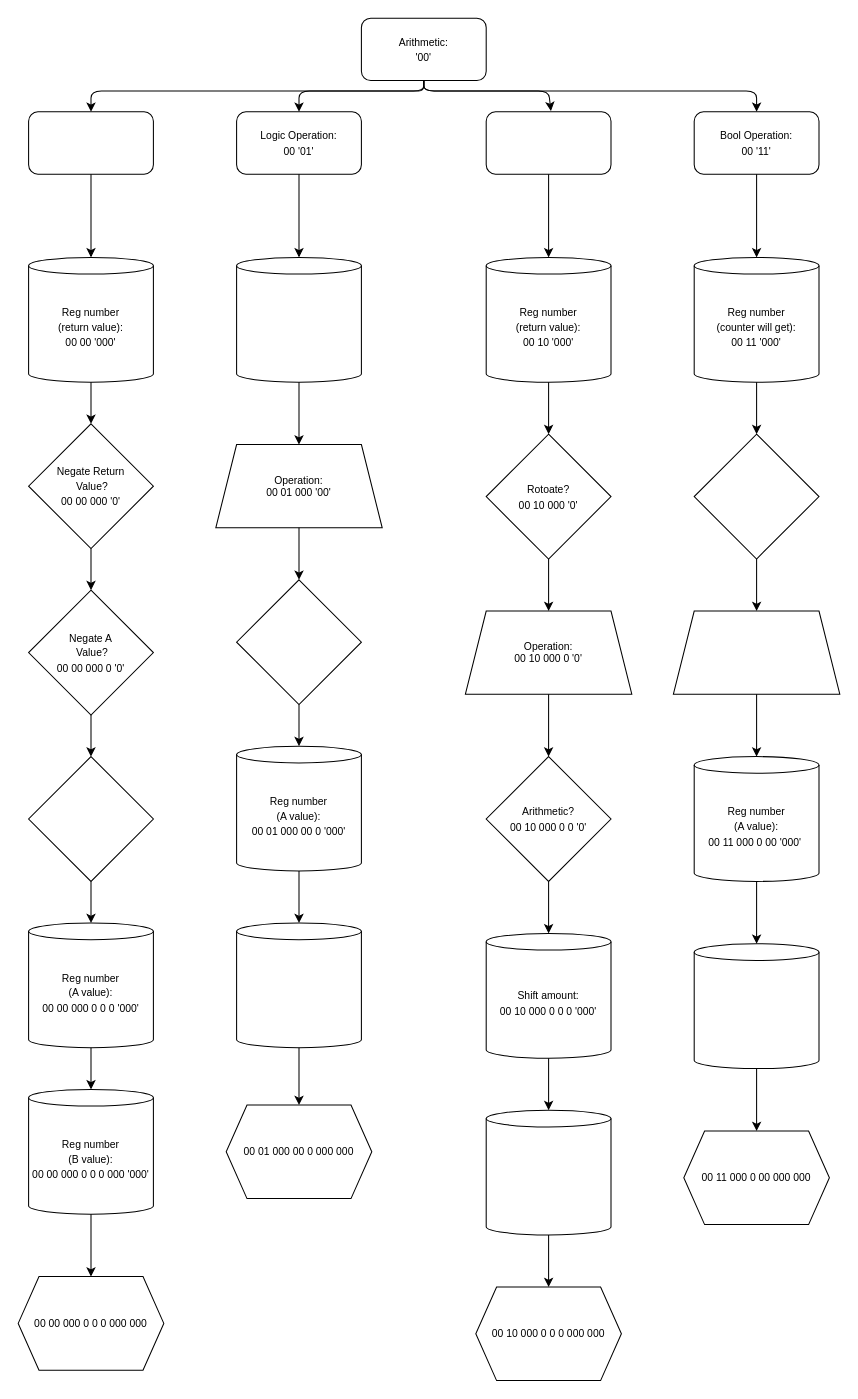
Some shapes in this 858 by 1399 pixel diagram are drawn without their labels. The box of each missing label's shape, as (x1, y1, x2, y2) in pixels:
Add Operation: 00 '00': (28, 111, 153, 174)
Compare with self? 00 11 000 '0': (693, 433, 819, 559)
Negate B Value? 00 00 000 0 0 '0': (28, 756, 153, 881)
NOT Return Value? 00 01 000 00 '0': (236, 579, 361, 705)
Operation: 00 11 000 0 '00': (672, 610, 840, 694)
Reg number (A value): 00 10 000 0 0 0 000 '000': (485, 1109, 611, 1235)
Reg number (B value): 00 01 000 00 0 000 '000': (236, 922, 361, 1048)
Reg number (B value): 00 11 000 0 00 000 '000': (693, 943, 819, 1069)
Reg number (return value): 00 01 '000': (236, 256, 361, 382)
Shifting Operation: 00 '10': (485, 111, 611, 174)
